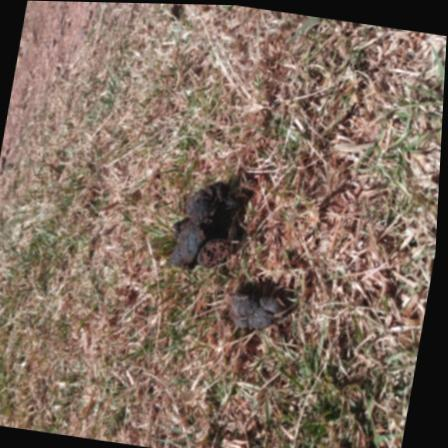dog-poop: (163, 169, 252, 274), (223, 282, 298, 341)
